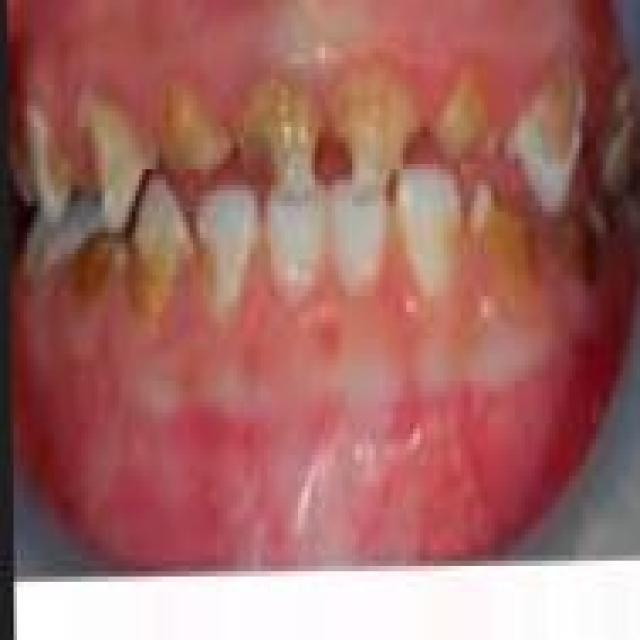caries: (326, 52, 421, 202), (242, 65, 326, 204), (511, 49, 594, 183), (466, 174, 536, 314), (154, 68, 235, 186), (130, 211, 200, 334), (431, 62, 490, 166), (68, 214, 130, 308), (31, 92, 73, 220)
